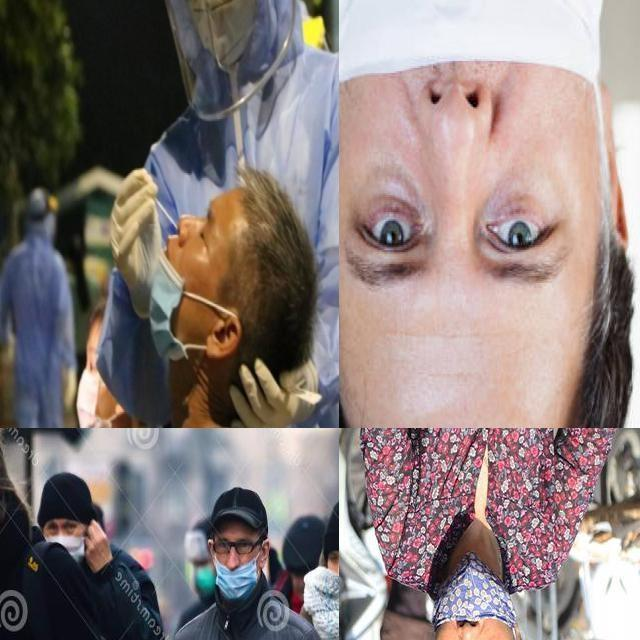hairnet: (345, 0, 606, 170), (149, 198, 206, 357), (439, 567, 508, 639), (215, 552, 256, 599)
